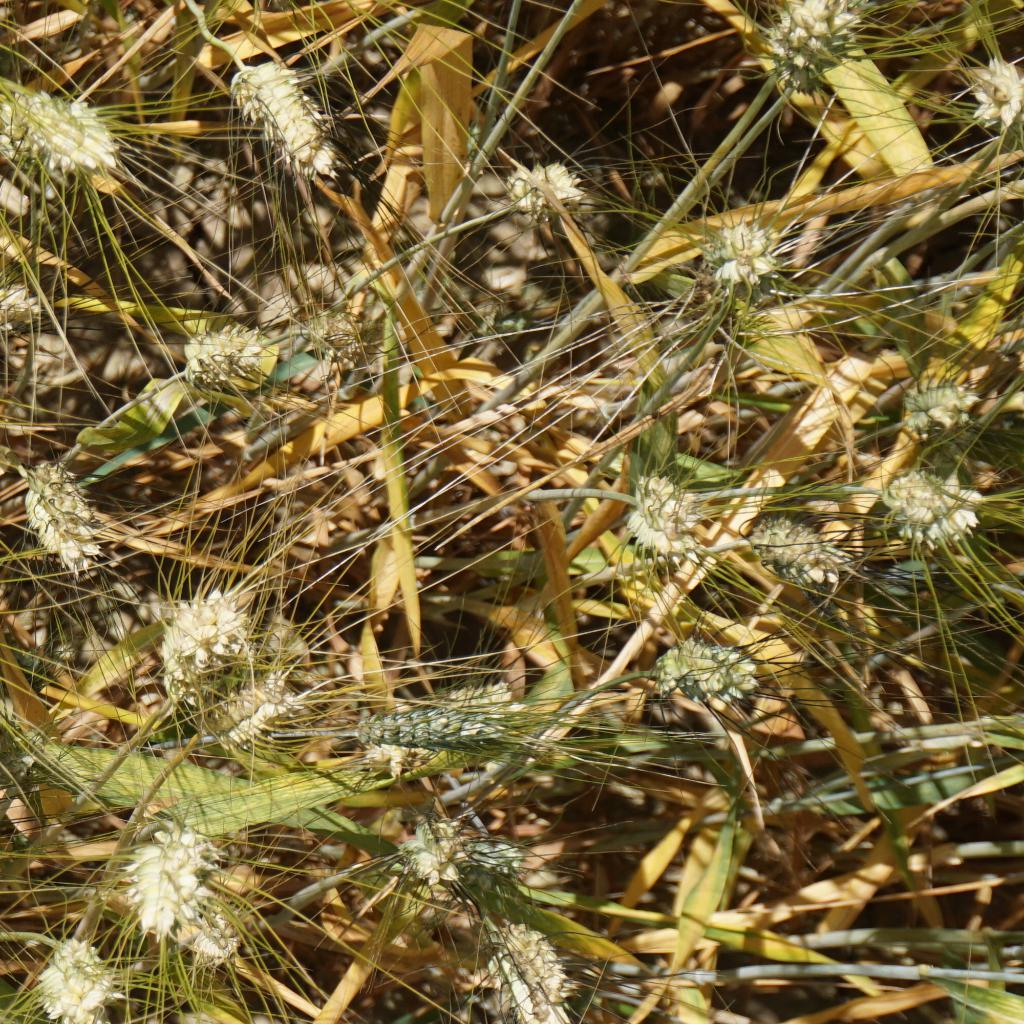0-0: (235, 55, 346, 180), (879, 470, 990, 563), (117, 806, 198, 930), (0, 84, 111, 171), (22, 460, 102, 579), (364, 701, 507, 761), (159, 599, 236, 701), (45, 920, 118, 1024), (758, 508, 857, 584), (769, 0, 847, 96), (657, 635, 754, 712), (166, 316, 265, 388), (210, 677, 297, 758), (888, 361, 978, 436), (700, 209, 778, 294), (498, 150, 585, 224), (177, 886, 251, 972), (483, 951, 563, 1024), (638, 475, 704, 561), (501, 924, 570, 1001), (415, 811, 473, 886), (445, 668, 528, 719), (971, 60, 1022, 132), (0, 273, 36, 374), (299, 311, 361, 361)
